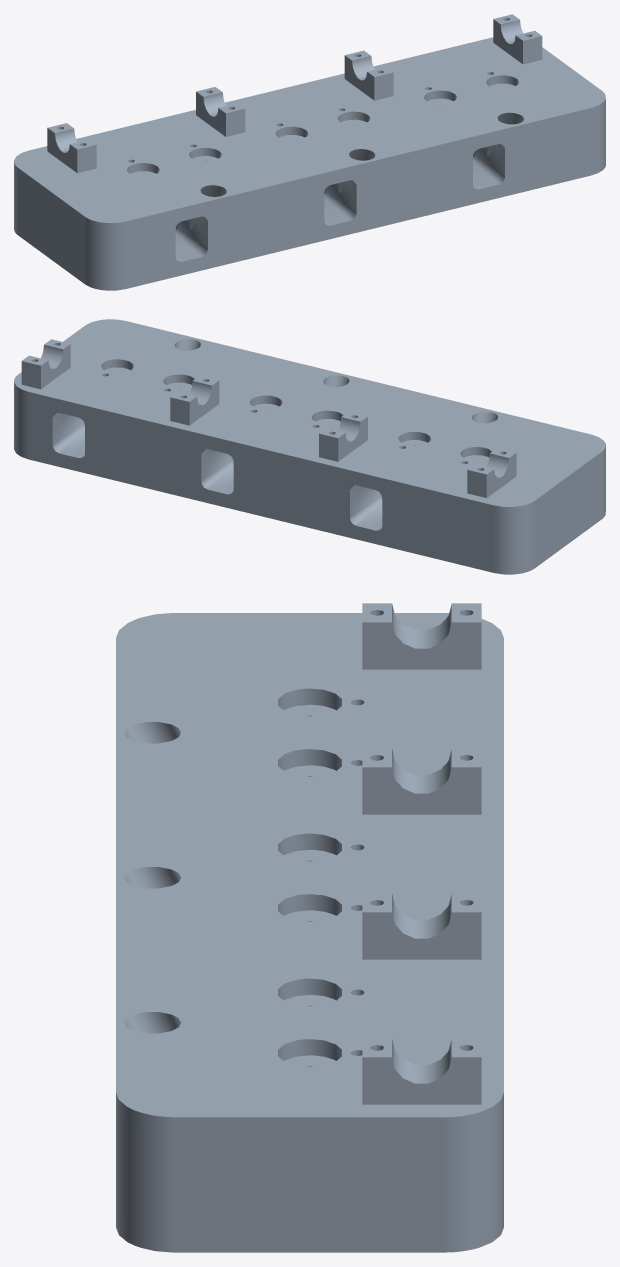
The model's file is cylinder_head.obj.
3 views of the same model, one above another, from view 1: azimuth 30°, elevation 25°; view 2: azimuth 150°, elevation 25°; view 3: azimuth 270°, elevation 25° (orthographic). The views are drawn at different scales.
Parts seen in each view (by area): view 1: 1; view 2: 1; view 3: 1.
Boxes of the visible parts, x1=… form: 1: x1=14, y1=14, x2=605, y2=290; 1: x1=14, y1=319, x2=605, y2=574; 1: x1=116, y1=603, x2=503, y2=1252.
Size of the model in its own units: 508 by 85.73 by 165.
